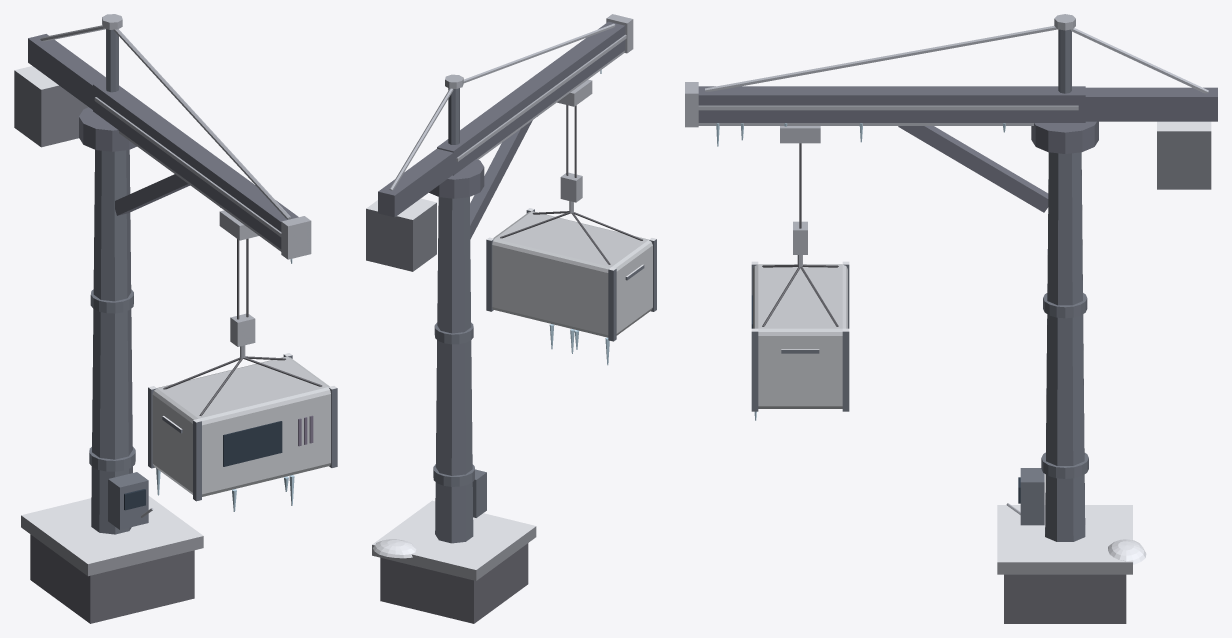
The model's file is PR_Guindaste_Carga.fbx.
3 renders of one model, left to right at view 1: azimuth 30°, elevation 25°; view 2: azimuth 150°, elevation 25°; view 3: azimuth 270°, elevation 25°, orthographic. The views are drawn at different scales.
Parts seen in each view (by area): view 1: PR_Guindaste_Carga; view 2: PR_Guindaste_Carga; view 3: PR_Guindaste_Carga.
Part boxes in pixels (x1,y1,x2,y2): PR_Guindaste_Carga: (14,14,337,623); PR_Guindaste_Carga: (366,14,656,623); PR_Guindaste_Carga: (685,14,1217,623).
Bounding box in the file's own units: 2.46 × 9.42 × 7.85.
